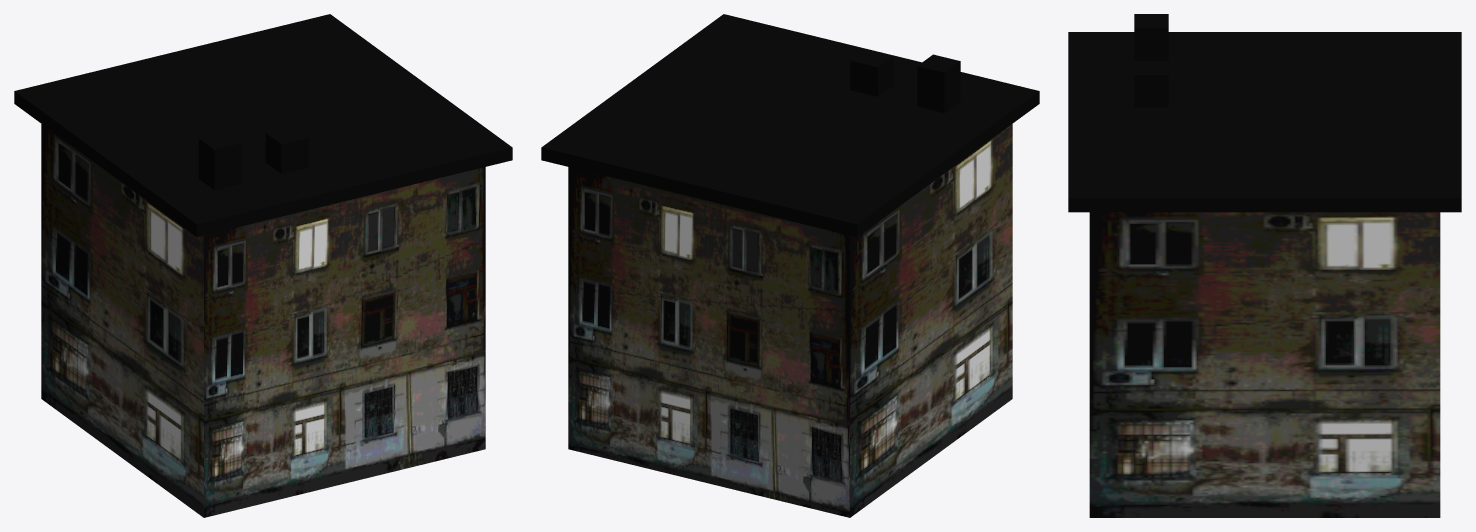
The model's file is house01.glb.
The picture shows the model from 3 angles, left to right: view 1: azimuth 30°, elevation 25°; view 2: azimuth 150°, elevation 25°; view 3: azimuth 270°, elevation 25°; orthographic projection. The views are drawn at different scales.
Parts seen in each view (by area): view 1: house01; view 2: house01; view 3: house01.
Boxes of the visible parts, left/top/right/bottom form: house01: left=14, top=14, right=512, bottom=517; house01: left=541, top=14, right=1039, bottom=517; house01: left=1068, top=14, right=1461, bottom=517.
Bounding box in the file's own units: 2.69 × 2.81 × 2.69.
Materials: 1 (1 with a texture image).
